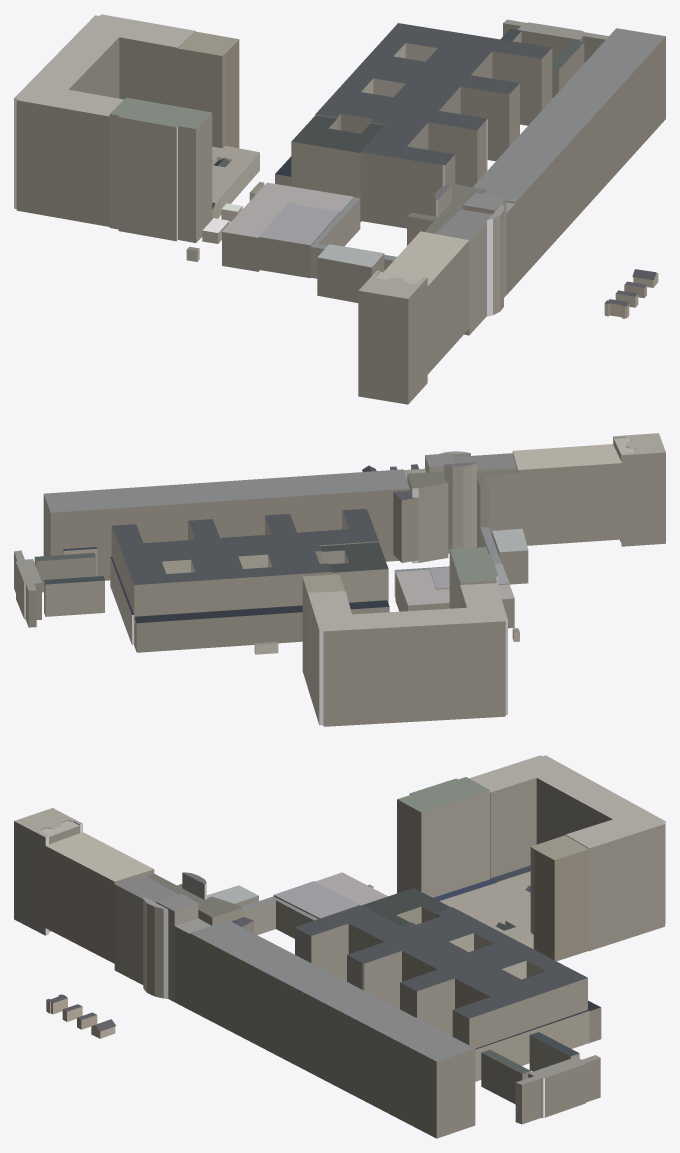
The picture shows the model from 3 angles, top to bottom: view 1: azimuth 30°, elevation 25°; view 2: azimuth 150°, elevation 25°; view 3: azimuth 270°, elevation 25°; orthographic projection. The views are drawn at different scales.
Visible parts, largest first — view 1: tuile; view 2: tuile; view 3: tuile.
Part boxes in pixels (left/top/right/bottom): tuile: left=14, top=14, right=665, bottom=404; tuile: left=14, top=433, right=665, bottom=726; tuile: left=14, top=755, right=665, bottom=1138.
Size of the model in its own units: 277 by 56.21 by 283.
